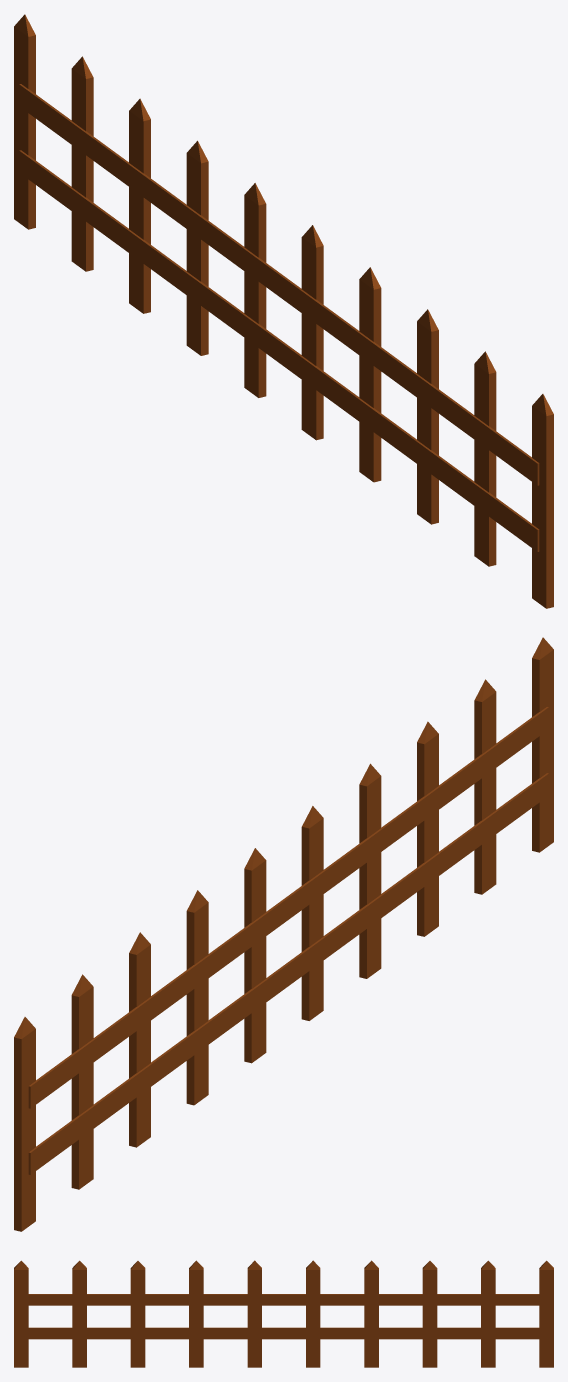
The model's file is Fence.fbx.
3 views of the same model, one above another, from view 1: azimuth 30°, elevation 25°; view 2: azimuth 150°, elevation 25°; view 3: azimuth 270°, elevation 25° (orthographic). The views are drawn at different scales.
Visible parts, largest first — view 1: Bars.001; view 2: Bars.001; view 3: Bars.001.
Boxes of the visible parts, box(x1,y1,x2,y2) form: Bars.001: box(14, 14, 553, 608); Bars.001: box(14, 637, 553, 1231); Bars.001: box(14, 1260, 553, 1367).
Bounding box in the file's own units: 17.32 × 367 × 1689.
